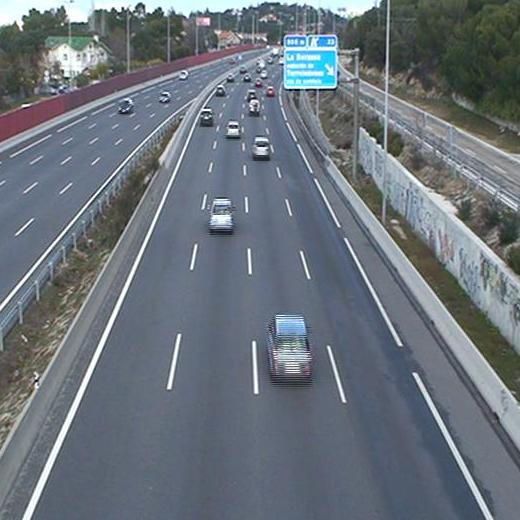car: (266, 315, 311, 379), (209, 198, 233, 231), (253, 136, 271, 158), (198, 108, 215, 127), (226, 121, 240, 139), (248, 98, 261, 114), (214, 85, 226, 98), (247, 89, 258, 103), (264, 86, 276, 97), (225, 72, 234, 82), (242, 73, 250, 83)
